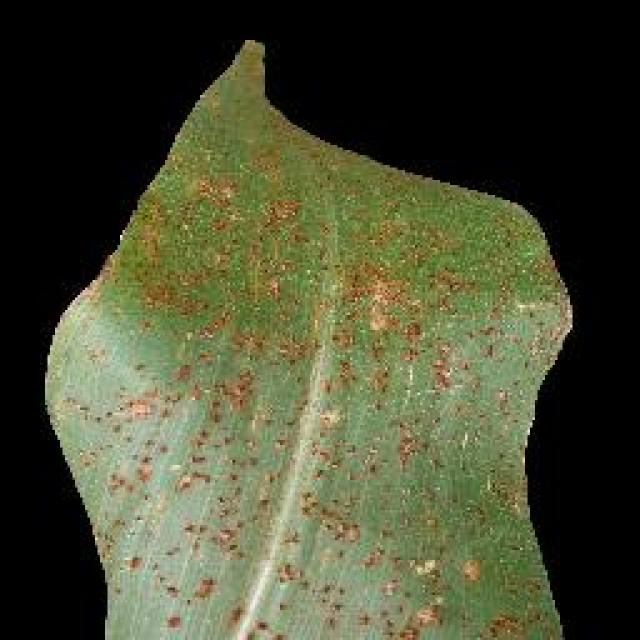Corn___Common_rust: (87, 173, 588, 637)
